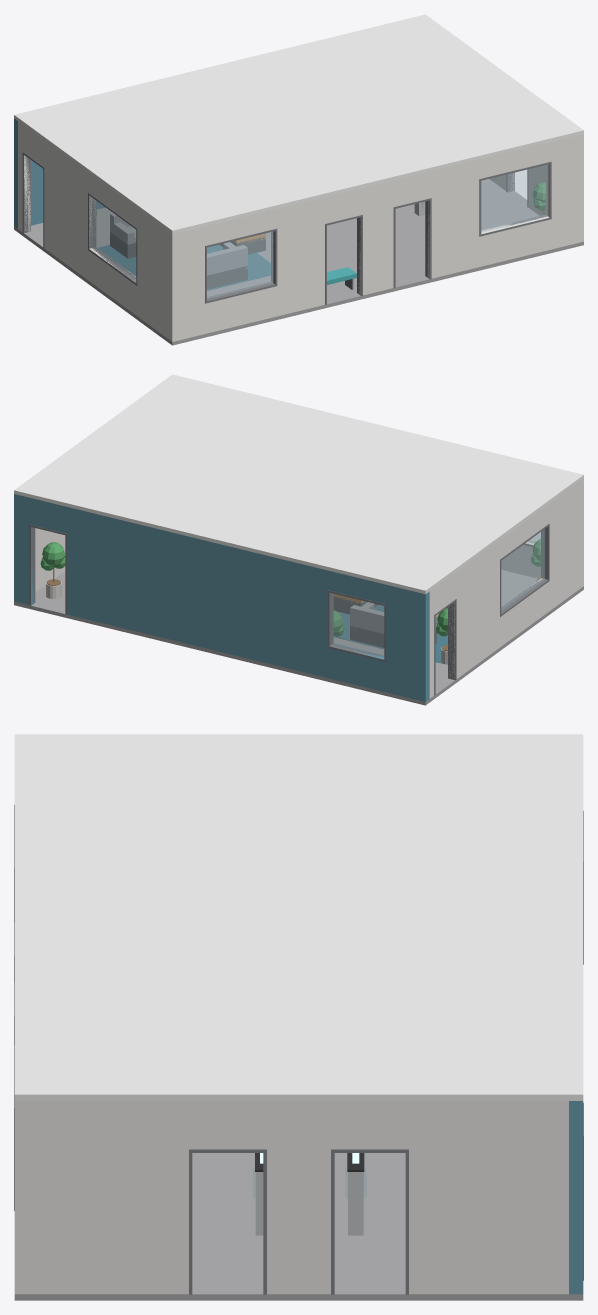
3 renders of one model, top to bottom at view 1: azimuth 30°, elevation 25°; view 2: azimuth 150°, elevation 25°; view 3: azimuth 270°, elevation 25°, orthographic. The views are drawn at different scales.
Parts seen in each view (by area): view 1: Ceiling, Wall_S, Wall_W, Frames_S, Floor, Frames_W, WaitSofa_1, Wall_N, Rug, WaitSofa_2, Wall_E, EntryBench (+1 smaller); view 2: Ceiling, Wall_N, Wall_W, Floor, Frames_N, Frames_W, WaitSofa_2, Wall_S, Wall_E, Plant.004, Rug; view 3: Ceiling, Wall_E, Floor, Wall_N, Wall_S, Frames_E, Turnstile_3, Turnstile_2.
Part boxes in pixels (x1,y1,x2,y2): Ceiling: [14, 14, 583, 234]; Wall_S: [168, 134, 583, 341]; Wall_W: [18, 121, 168, 338]; Frames_S: [205, 161, 551, 304]; Floor: [14, 179, 583, 345]; Frames_W: [22, 152, 137, 285]; WaitSofa_1: [207, 242, 247, 289]; Wall_N: [14, 118, 105, 228]; Rug: [98, 245, 270, 290]; WaitSofa_2: [110, 213, 136, 258]; Wall_E: [489, 165, 545, 215]; EntryBench: [327, 267, 356, 289]; Ceiling: [14, 374, 583, 594]; Wall_N: [14, 494, 429, 701]; Wall_W: [429, 481, 579, 698]; Floor: [14, 570, 583, 705]; Frames_N: [29, 524, 385, 661]; Frames_W: [434, 523, 549, 695]; WaitSofa_2: [350, 602, 436, 647]; Wall_S: [501, 478, 583, 588]; Wall_E: [35, 528, 65, 592]; Plant.004: [40, 542, 65, 599]; Rug: [333, 605, 447, 663]; Ceiling: [14, 734, 583, 1100]; Wall_E: [29, 1101, 568, 1294]; Floor: [14, 1153, 583, 1300]; Wall_N: [569, 1101, 583, 1294]; Wall_S: [14, 1101, 28, 1294]; Frames_E: [189, 1149, 408, 1294]; Turnstile_3: [345, 1153, 366, 1235]; Turnstile_2: [253, 1153, 263, 1235].
Size of the model in its own units: 12.02 by 3.2 by 8.02.
